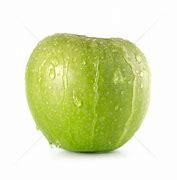apple: (19, 30, 152, 150)
